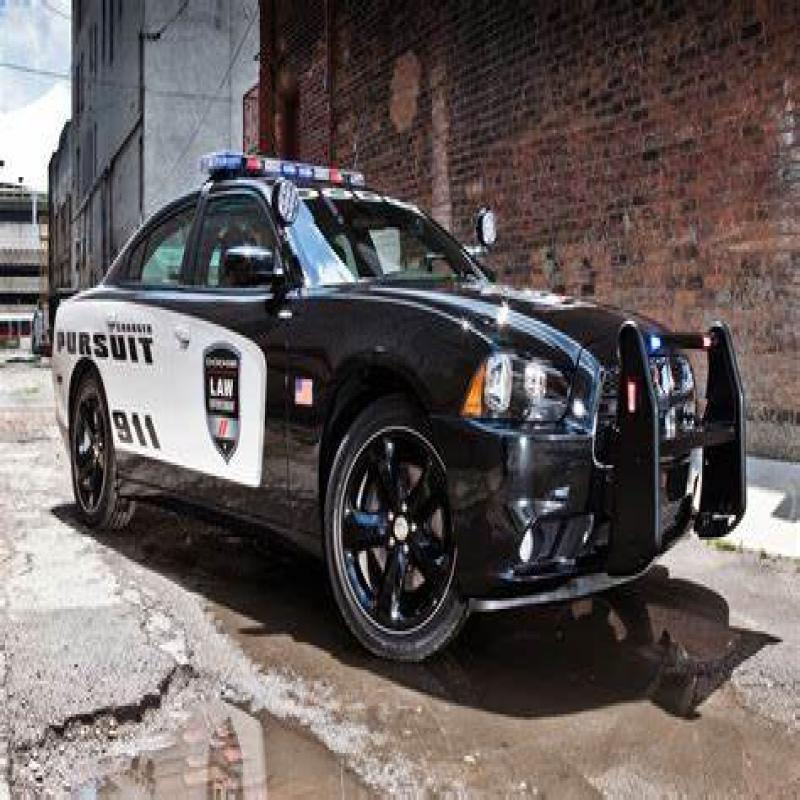AmbulanceSiren: (195, 134, 365, 206)
